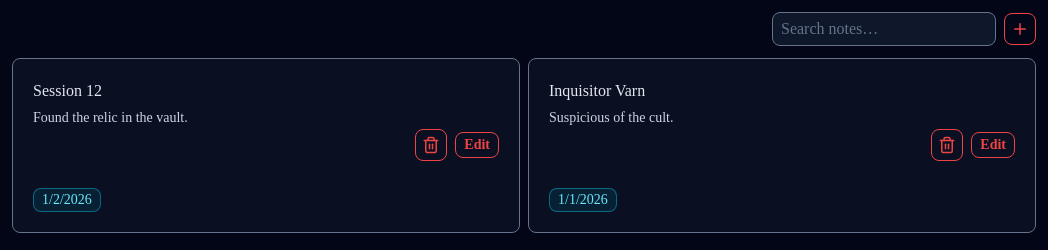
Test case: NotesTab search › shows a no-match message distinct from the empty state when a query matches nothing
Type "xyz" into the search field with placeholder "Search notes…" at (884, 29), box [772,12,996,46]
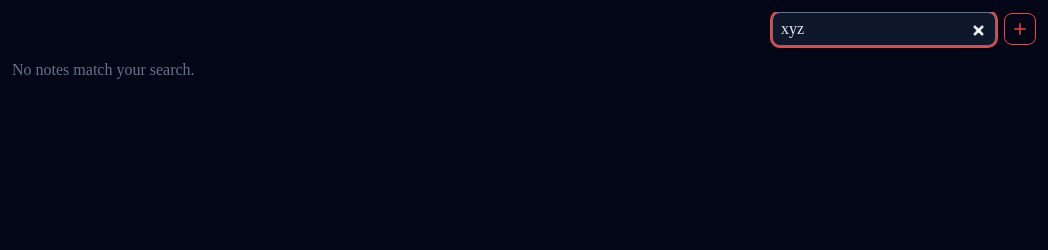
Expected: the text "No notes match your search." is shown, [12,61,195,78]
